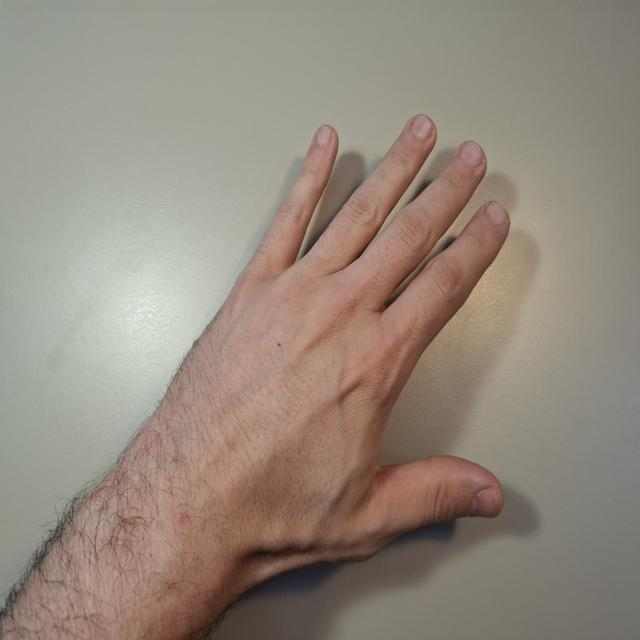glove_off: (184, 113, 512, 577)
